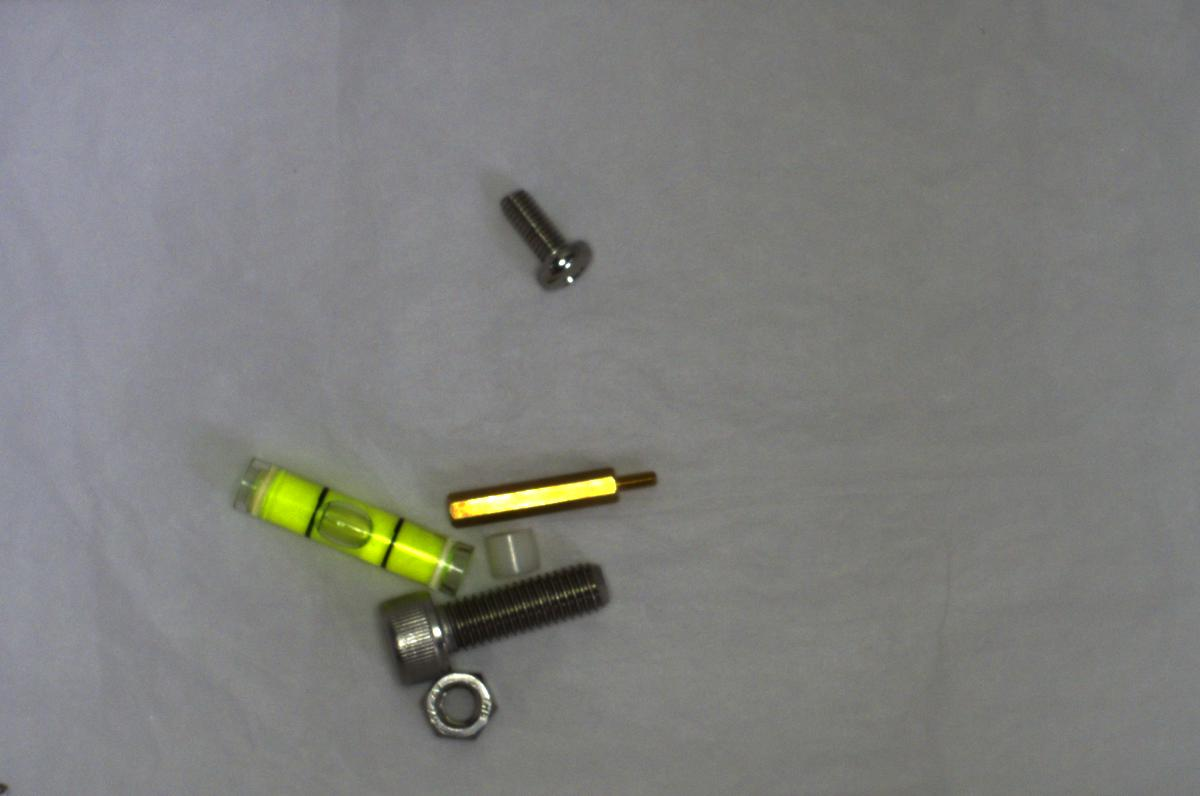Hexagon nut: (419, 661, 501, 748)
Hexagon pillar: (433, 462, 667, 529)
Hexagon screw: (374, 558, 622, 687)
Horizontal bubble: (220, 456, 471, 593)
Plastic cushion pillar: (477, 522, 542, 585)
Round head screw: (495, 182, 598, 299)
